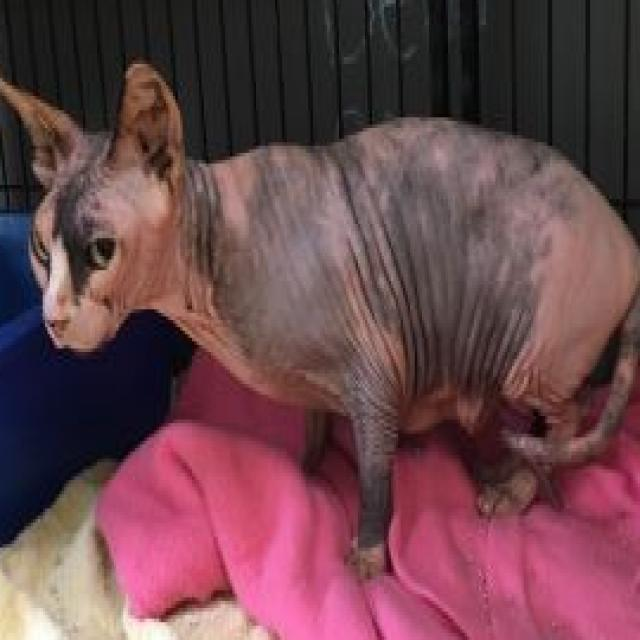Sphynx: (0, 54, 640, 590)
